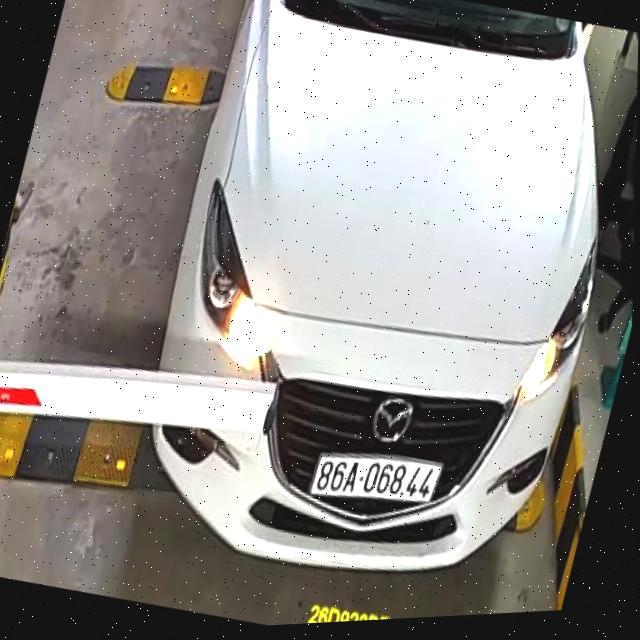car: (93, 0, 640, 625)
plate: (309, 438, 445, 521)
